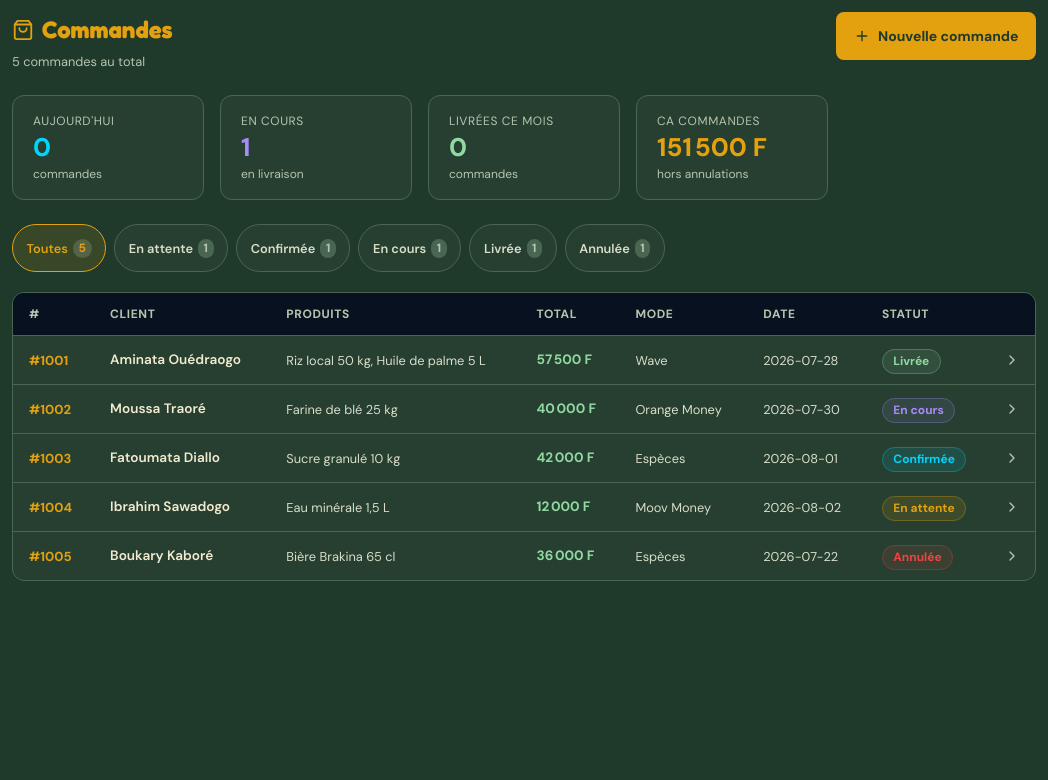
it: CommandesPage › 15 — filtre "Livrée" : affiche Aminata, masque Ibrahim
What coordinates should you click on to do the following:
click the button "Livrée 1"
I would click on:
 (513, 248)
Its box is 469,224 -> 557,272.
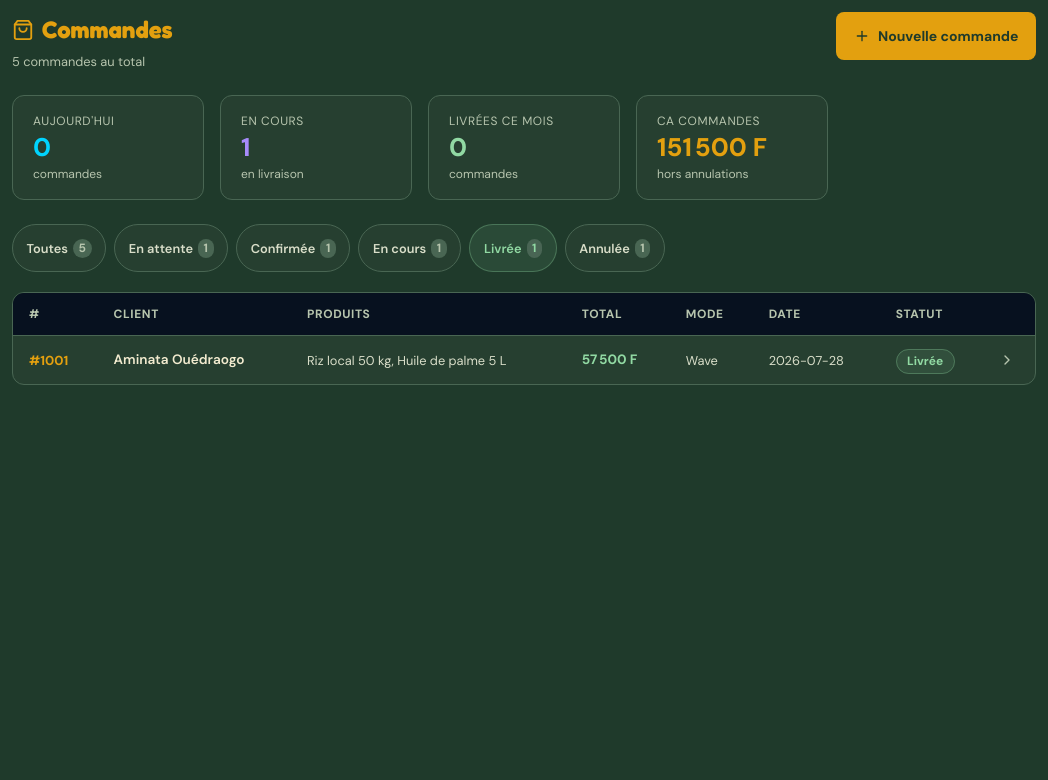
Expected: the text "Aminata Ouédraogo" is shown, 98,336 -> 291,384
Expected: the text "Ibrahim Sawadogo" is gone
